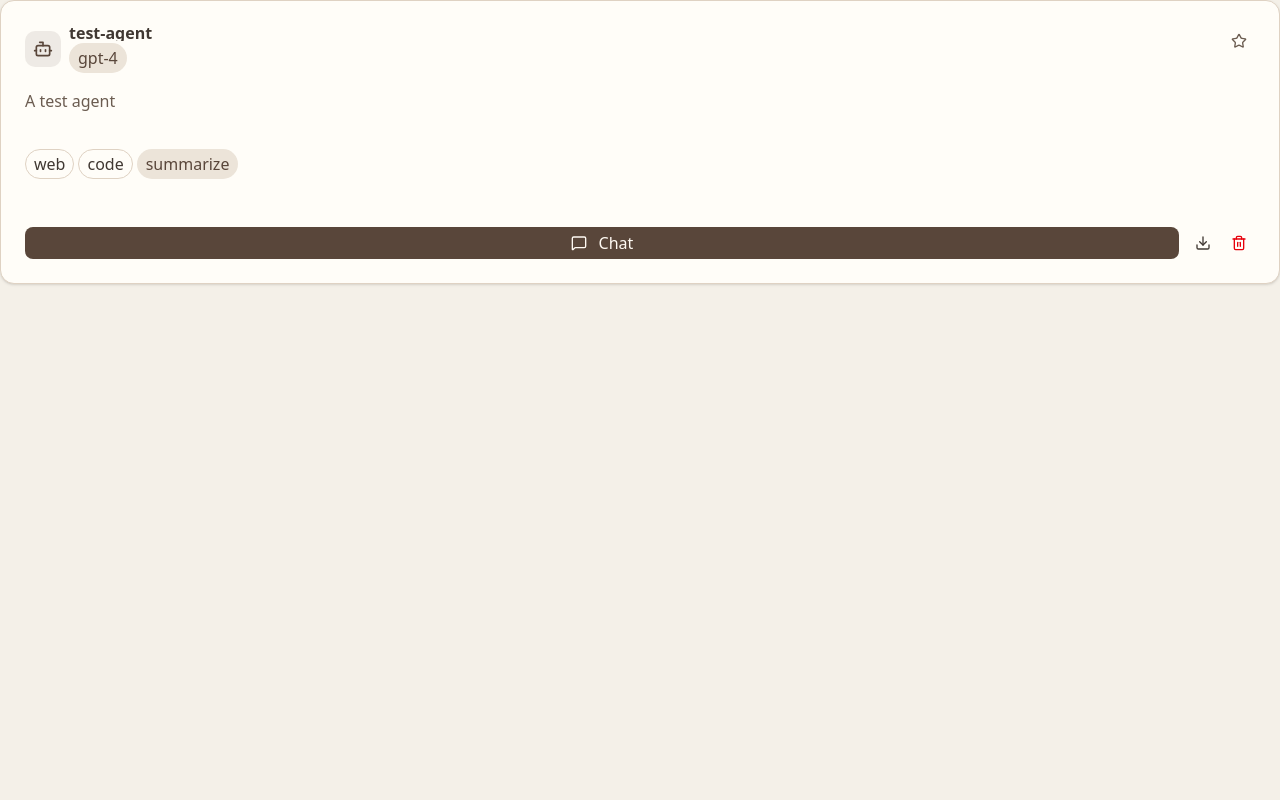
AgentCard › clicking cancel closes the delete dialog
Click the button with test id "agent-delete-button": (1239, 243) x1=1223 y1=227 x2=1255 y2=259
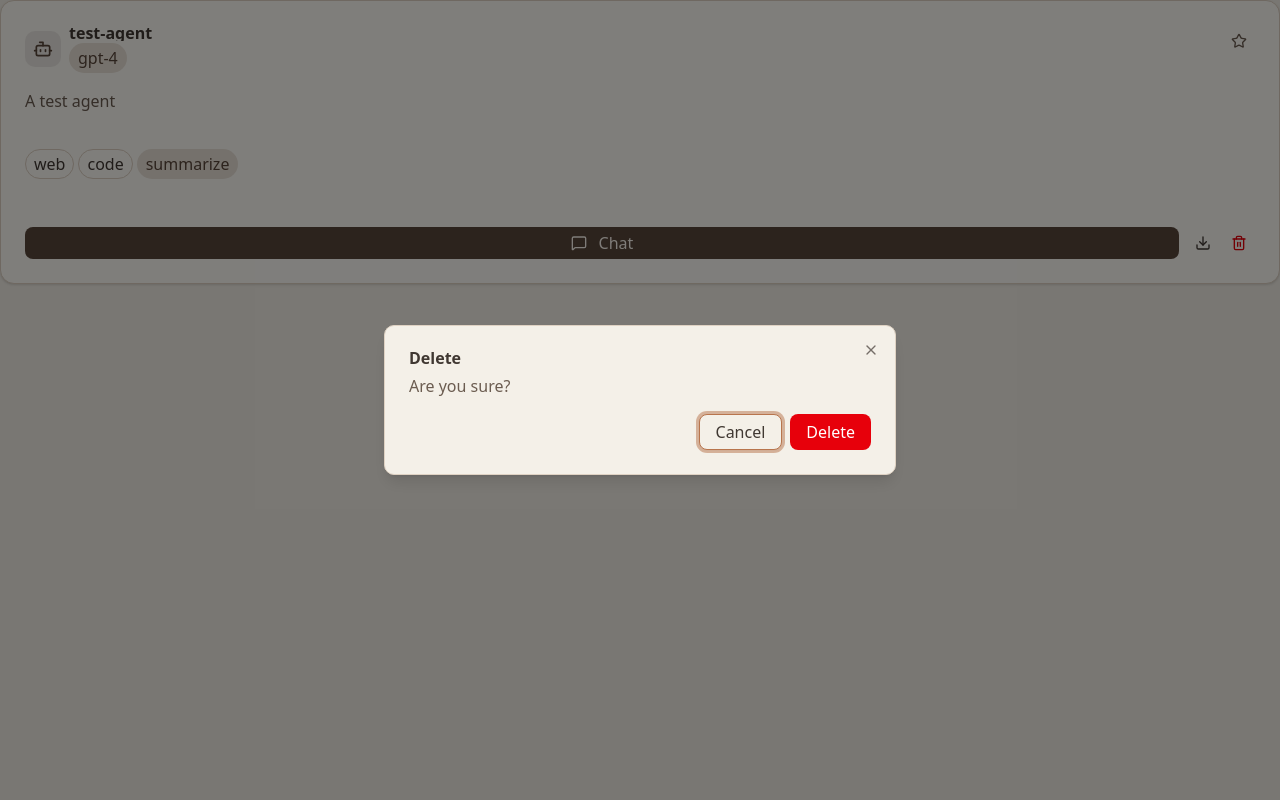
Result: the dialog is shown at x1=384 y1=325 x2=896 y2=475
Click the button "Cancel": (740, 432) x1=698 y1=414 x2=782 y2=450
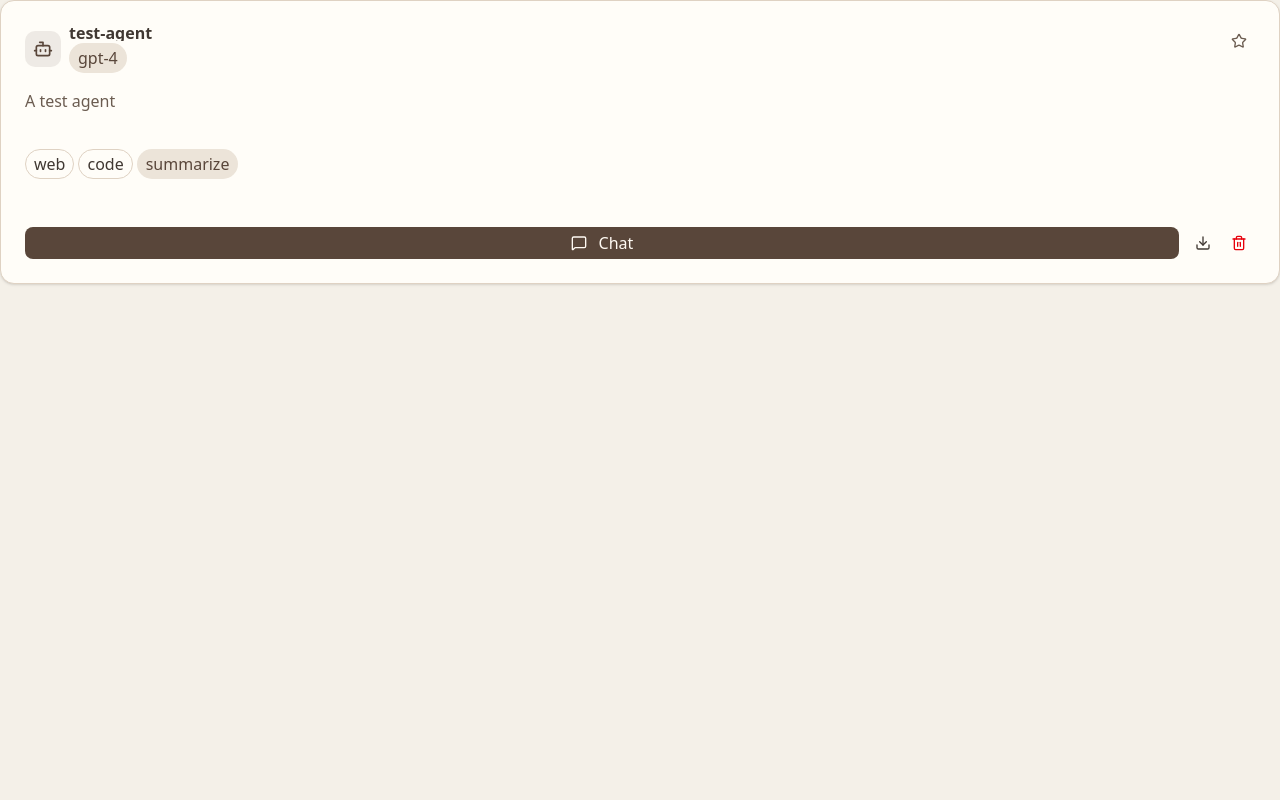
Result: the dialog is gone
